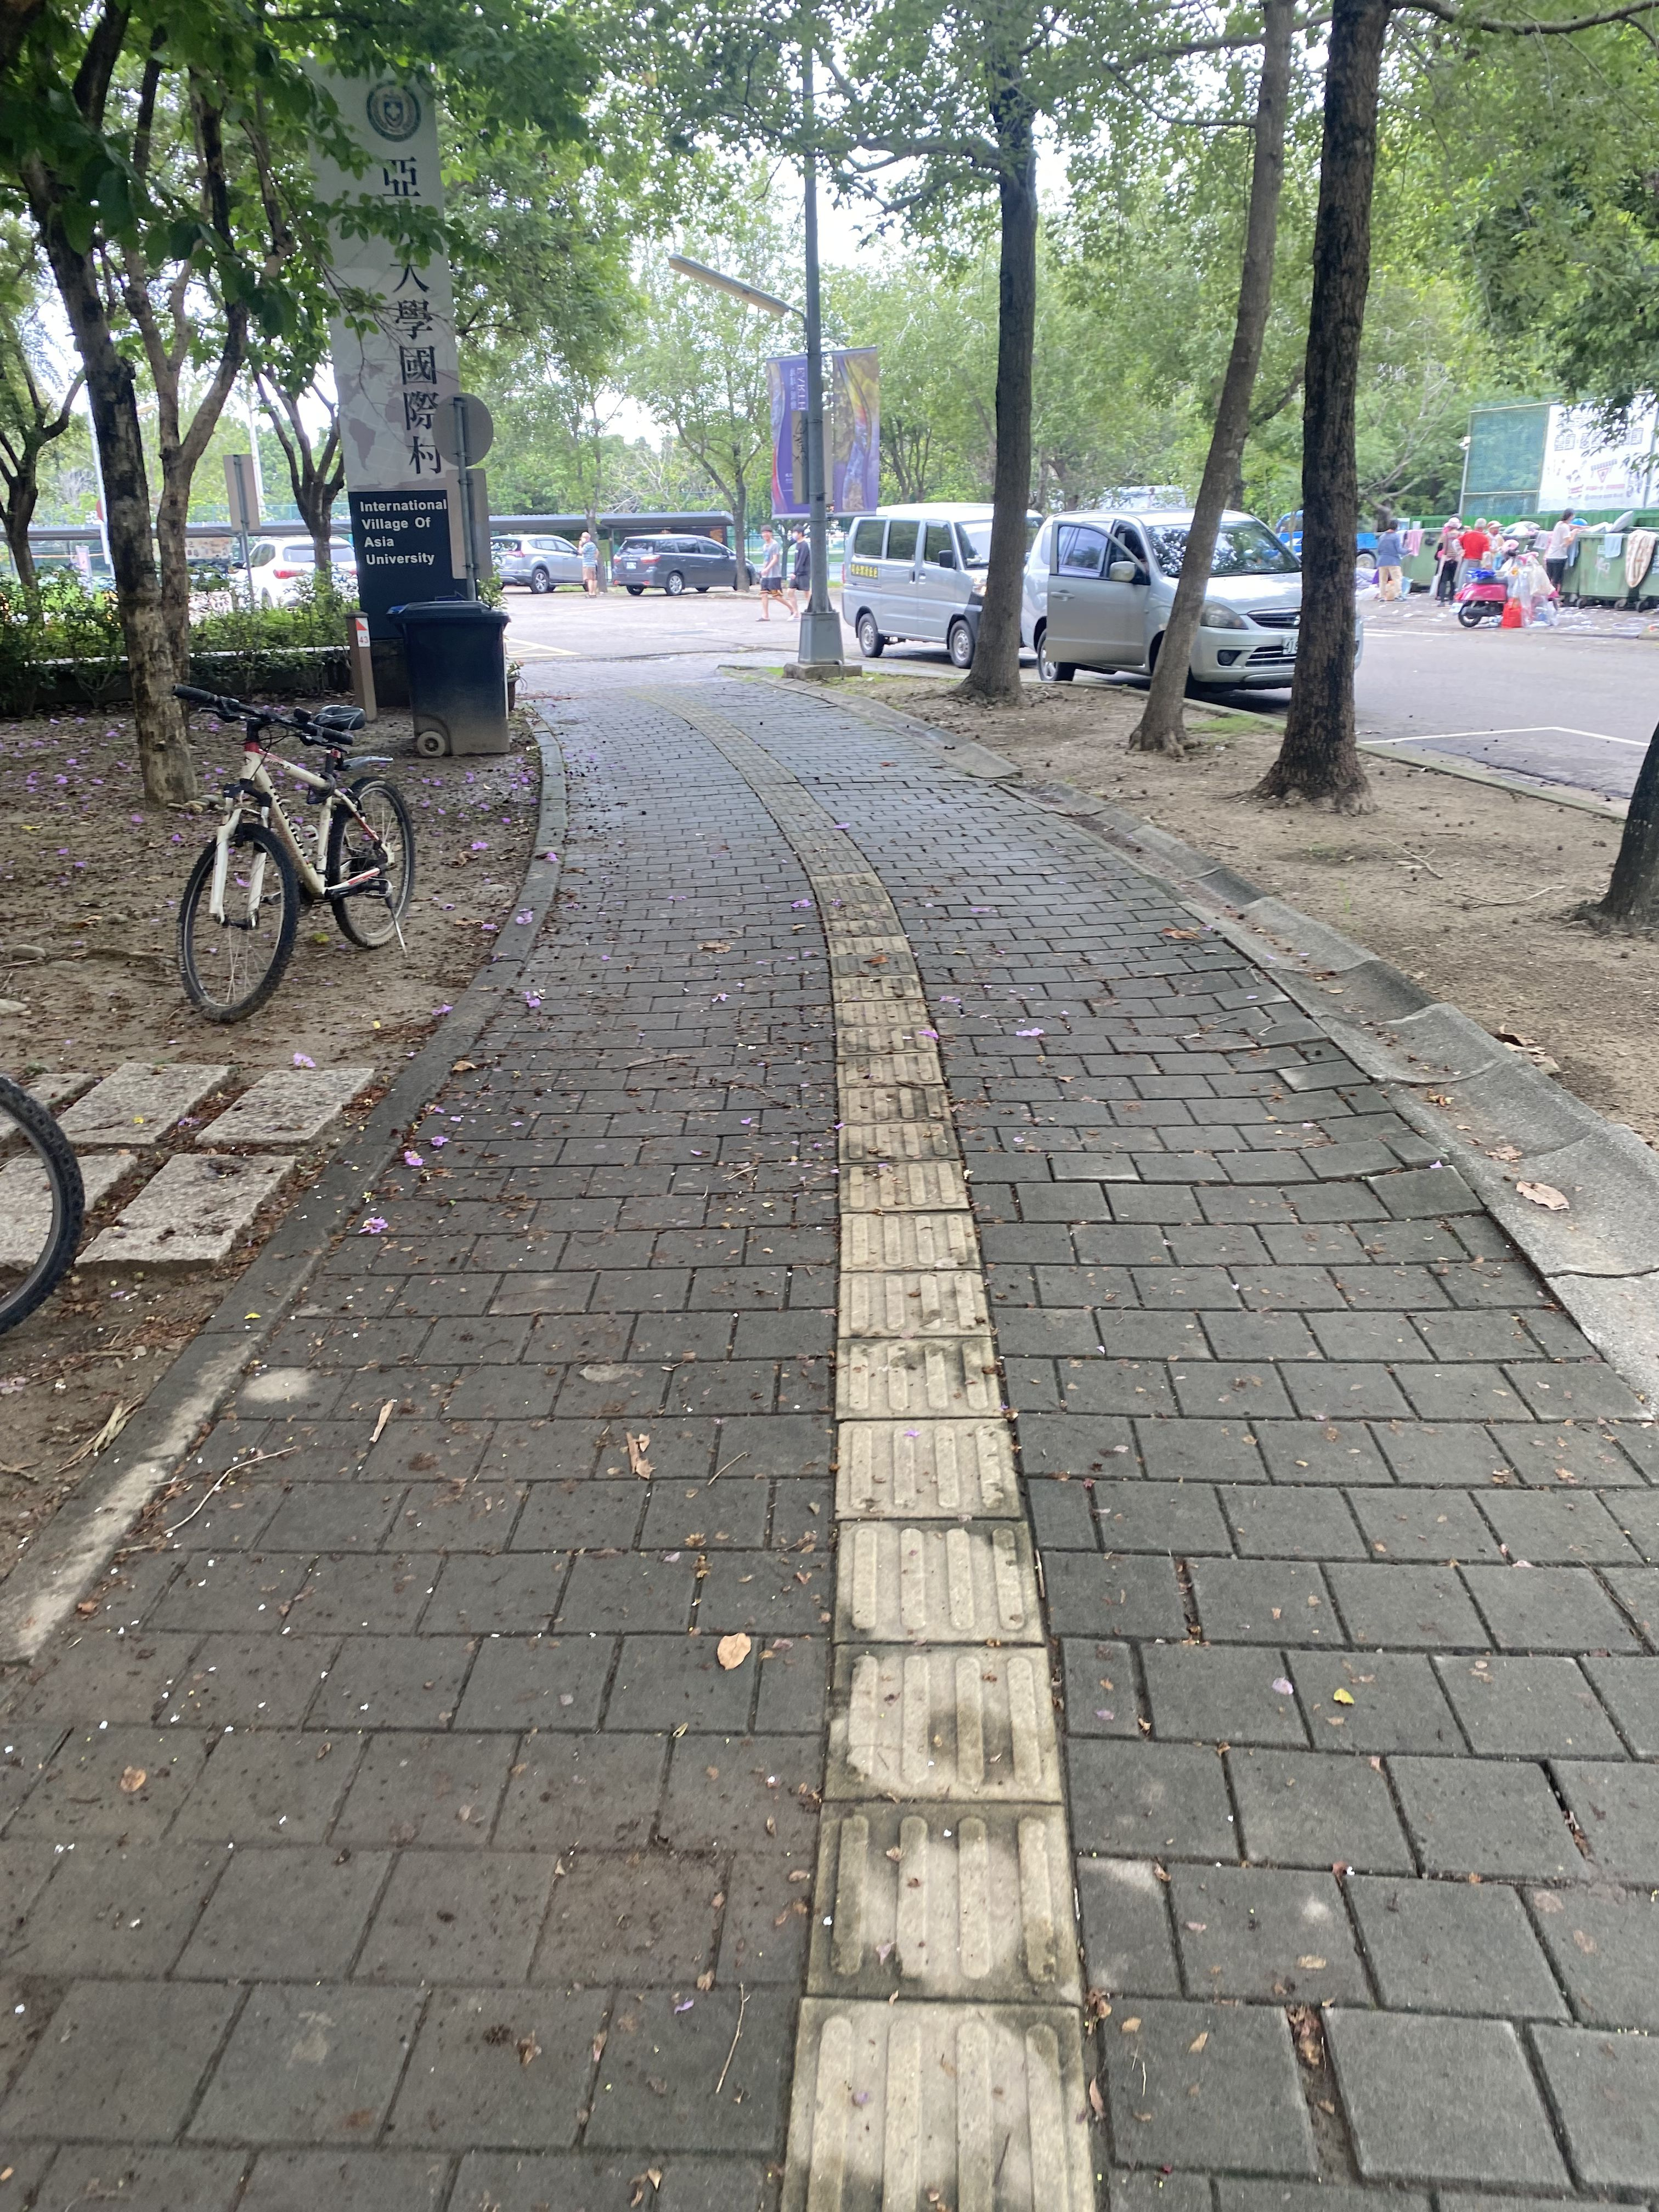sidewalk: (0, 650, 1659, 2212)
